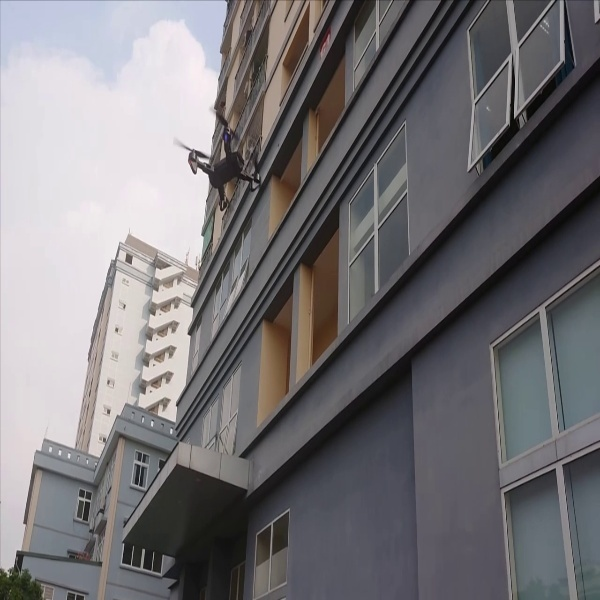drone: (178, 97, 266, 212)
